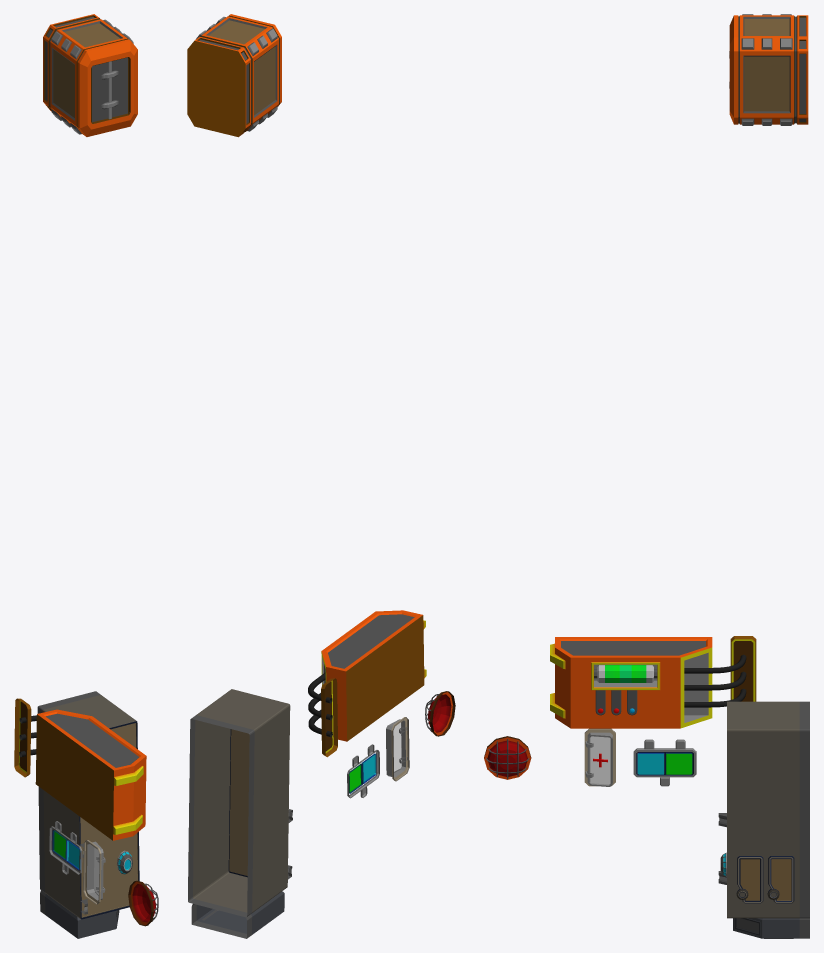
Rendered from stanza_letto_furniture.fbx.
The picture shows the model from 3 angles, left to right: view 1: azimuth 30°, elevation 25°; view 2: azimuth 150°, elevation 25°; view 3: azimuth 270°, elevation 25°; orthographic projection.
Visible parts, largest first — view 1: FuseBox00.001, Workbench00.004, Crate00.002, FirstAidKit00.001, DoorPanel00.001, AlarmLamp00.001; view 2: Workbench00.004, FuseBox00.001, Crate00.002, FirstAidKit00.001, DoorPanel00.001, AlarmLamp00.001; view 3: Workbench00.004, FuseBox00.001, Crate00.002, DoorPanel00.001, FirstAidKit00.001, AlarmLamp00.001.
Part boxes in pixels (<box>): FuseBox00.001: <box>14,698,146,840</box>; Workbench00.004: <box>37,691,139,938</box>; Crate00.002: <box>43,14,137,136</box>; FirstAidKit00.001: <box>83,840,105,904</box>; DoorPanel00.001: <box>49,821,82,874</box>; AlarmLamp00.001: <box>128,880,158,926</box>; Workbench00.004: <box>188,689,292,938</box>; FuseBox00.001: <box>308,610,426,757</box>; Crate00.002: <box>187,14,281,137</box>; FirstAidKit00.001: <box>386,717,409,781</box>; DoorPanel00.001: <box>347,744,379,798</box>; AlarmLamp00.001: <box>425,691,455,736</box>; Workbench00.004: <box>718,701,809,938</box>; FuseBox00.001: <box>550,636,756,728</box>; Crate00.002: <box>729,14,808,125</box>; DoorPanel00.001: <box>633,739,696,786</box>; FirstAidKit00.001: <box>584,728,615,786</box>; AlarmLamp00.001: <box>484,736,531,779</box>.
Bounding box in the file's own units: 65.4 × 487 × 159.
